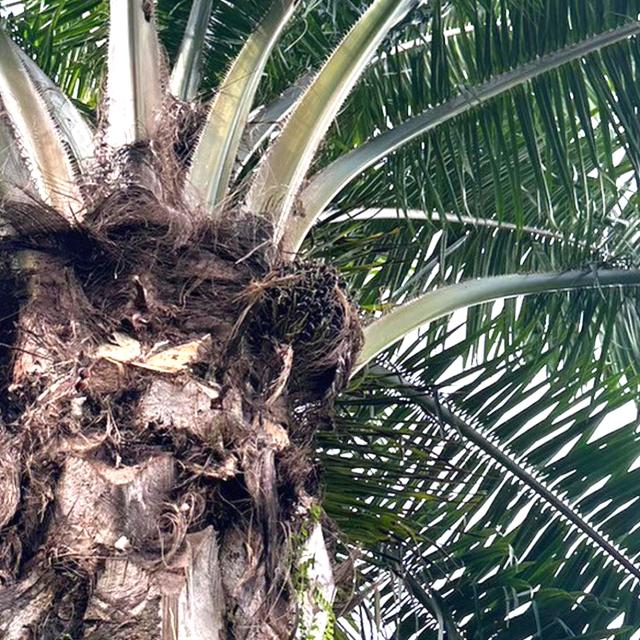unripe: (255, 248, 384, 416)
